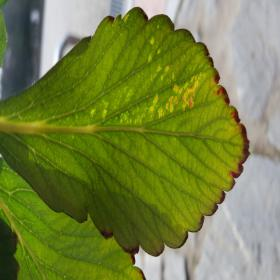Angular Leafspot: (86, 14, 209, 128)
